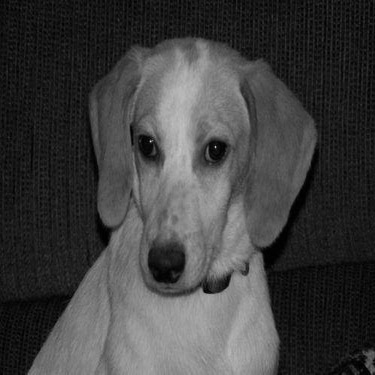dog: (19, 35, 320, 370)
